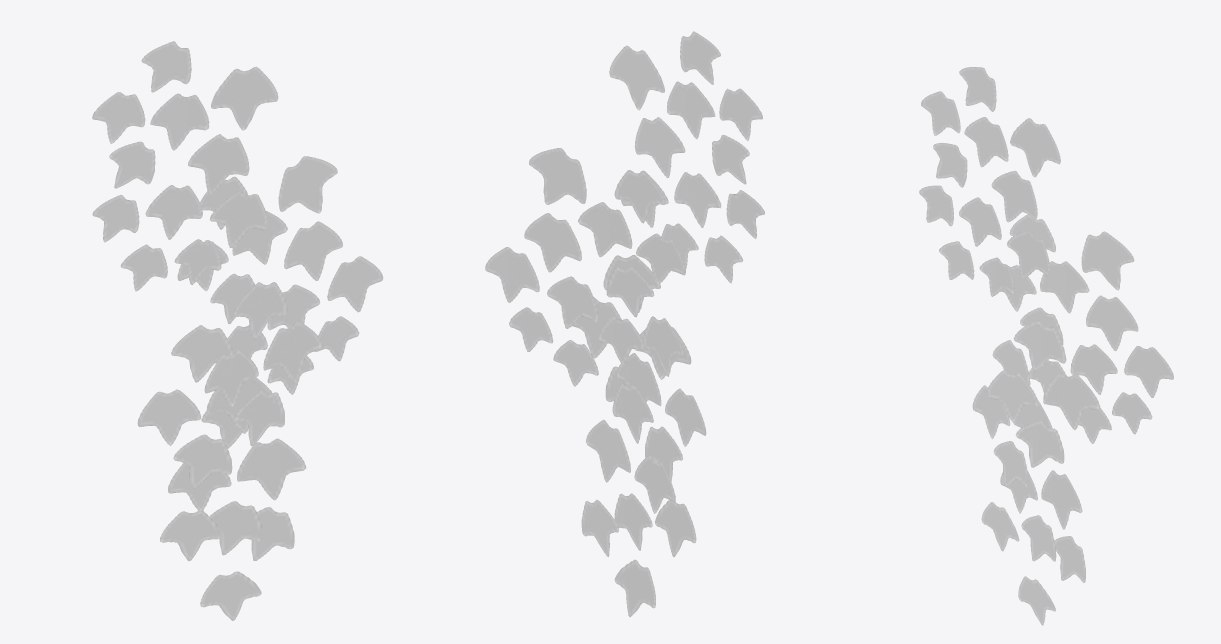
File: ivy-small.obj
The picture shows the model from 3 angles, left to right: view 1: azimuth 30°, elevation 25°; view 2: azimuth 150°, elevation 25°; view 3: azimuth 330°, elevation 25°; orthographic projection. The views are drawn at different scales.
Bounding box in the file's own units: 1.02 × 1.59 × 0.15.
1 material, 1 textured.
